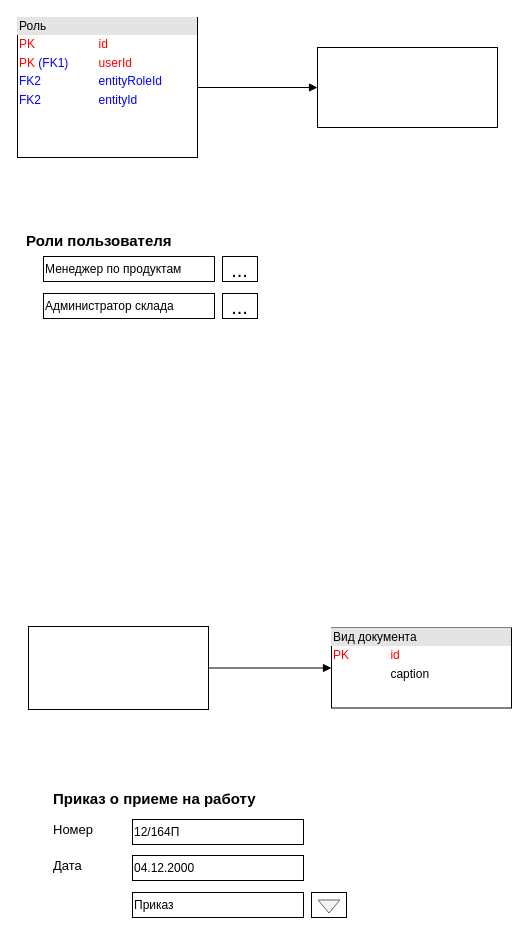
The diagram is 529 pixels wide and 935 high, and some of its shapes have lost their labels. The centre of each missing label's shape, as x and y in pixels:
Документ PK id FK2 doc_type_Id: point 118,668
Роль организации PK id PK (FK1) entityId caption: point 407,87
